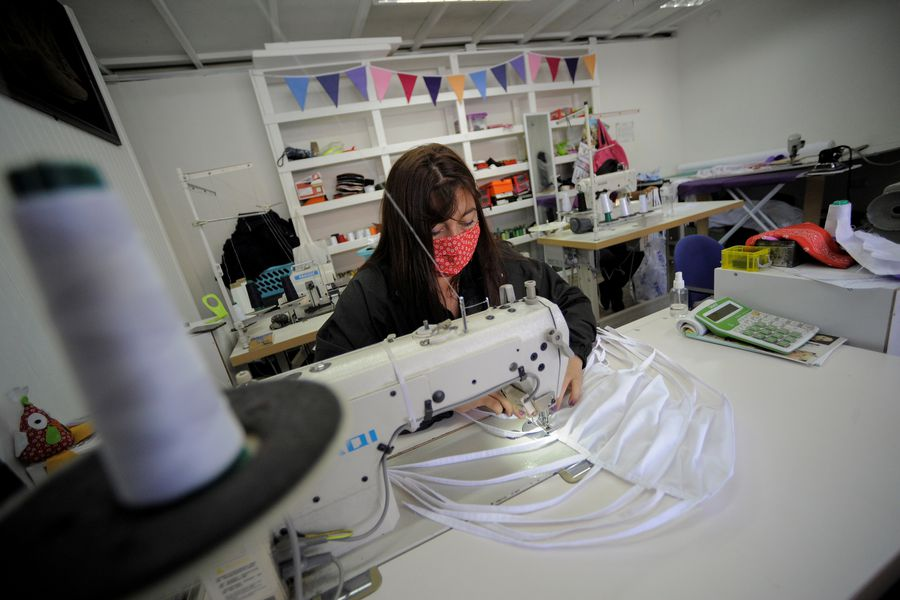with_mask: (388, 161, 497, 285)
